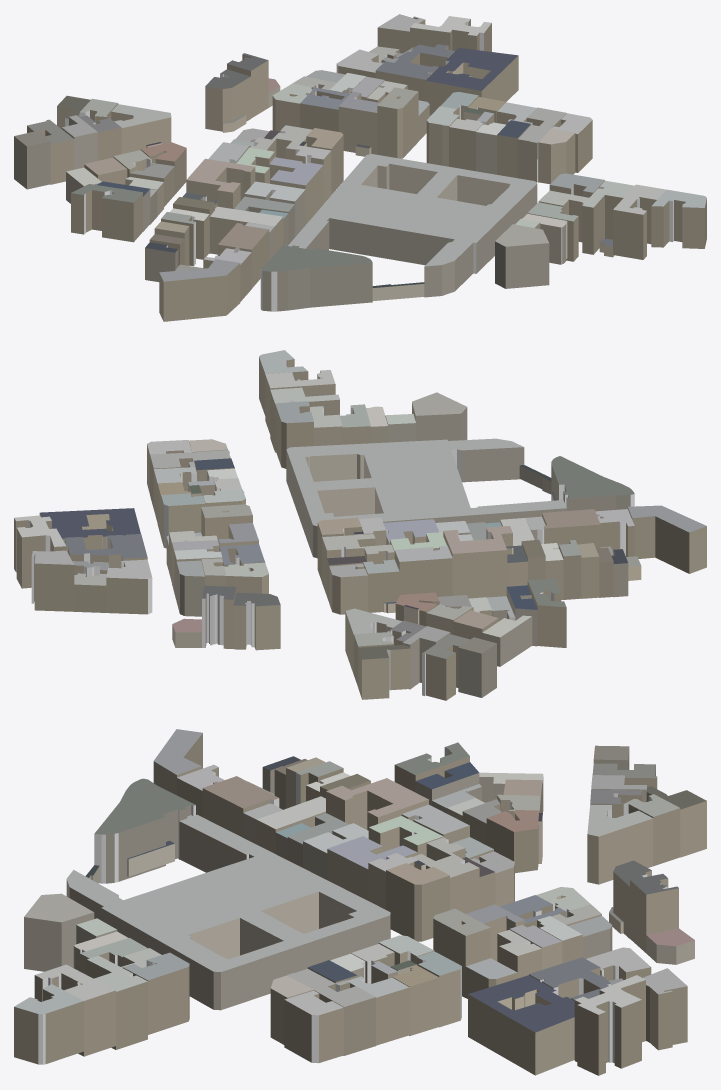
3 views of the same model, one above another, from view 1: azimuth 30°, elevation 25°; view 2: azimuth 150°, elevation 25°; view 3: azimuth 270°, elevation 25° (orthographic). The views are drawn at different scales.
Parts seen in each view (by area): view 1: tuile; view 2: tuile; view 3: tuile.
Part boxes in pixels (left/top/right/bottom): tuile: left=14, top=14, right=706, bottom=321; tuile: left=14, top=350, right=706, bottom=700; tuile: left=14, top=729, right=706, bottom=1075.
Bounding box in the file's own units: 281 × 30.09 × 274.
